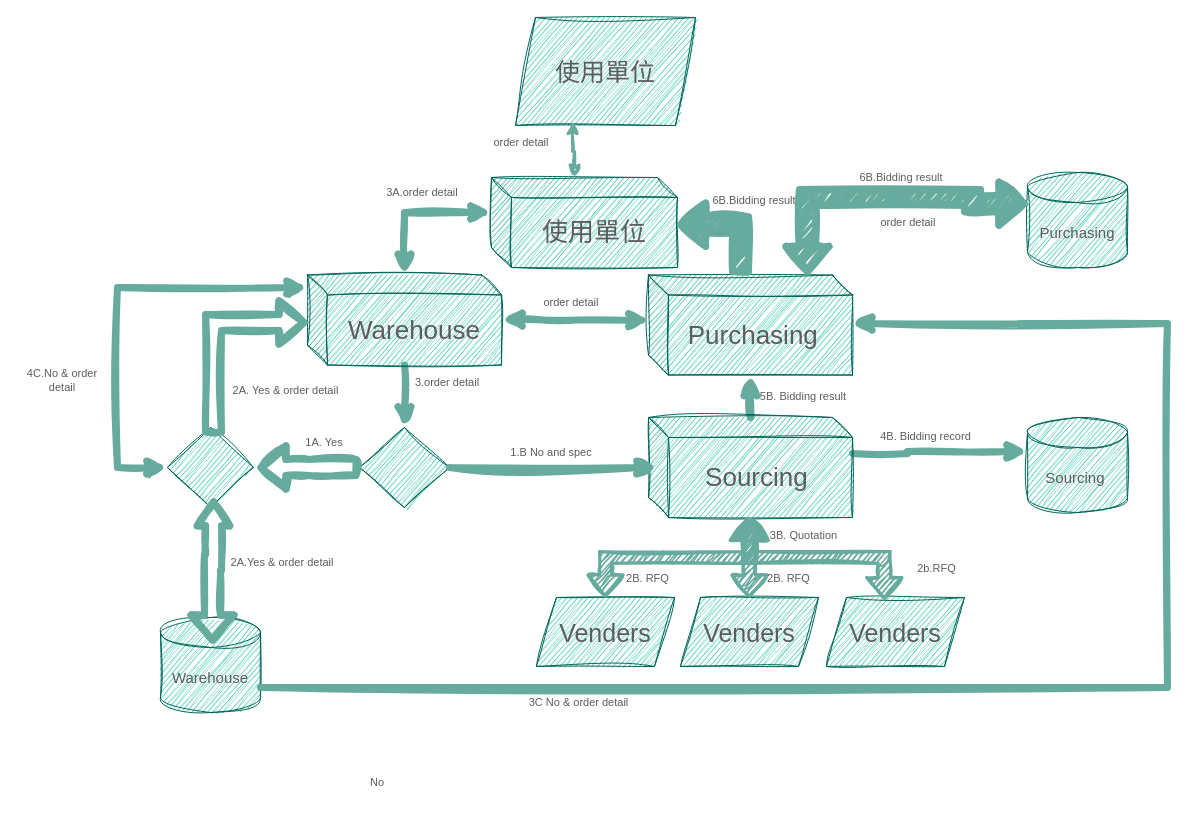
The diagram is 1196 pixels wide and 815 high, and some of its shapes have lost their labels. The centre of each missing label's shape, as x and y in pixels:
是否有庫存?: (210,467)
是否有該spec?: (404,467)
